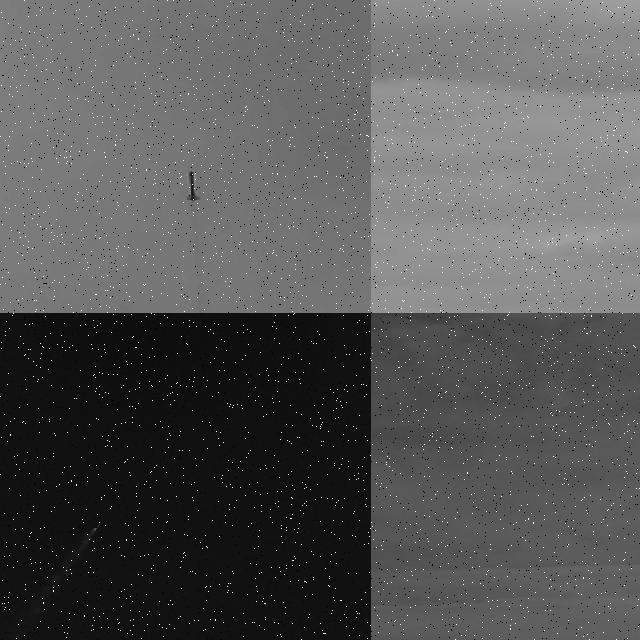Rocket: (185, 170, 201, 202), (90, 520, 102, 531)
